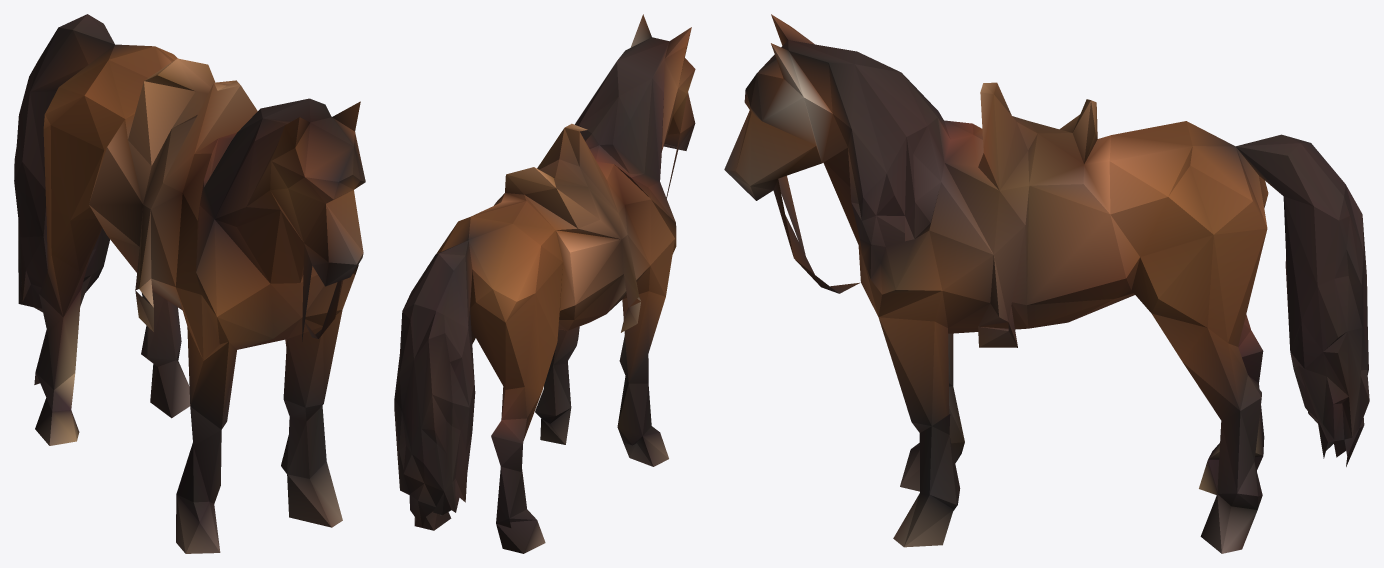
File: horse-saddled.far.glb
The picture shows the model from 3 angles, left to right: view 1: azimuth 30°, elevation 25°; view 2: azimuth 150°, elevation 25°; view 3: azimuth 270°, elevation 25°; orthographic projection. The views are drawn at different scales.
Bounding box in the file's own units: 0.7002 × 1.89 × 2.29.
